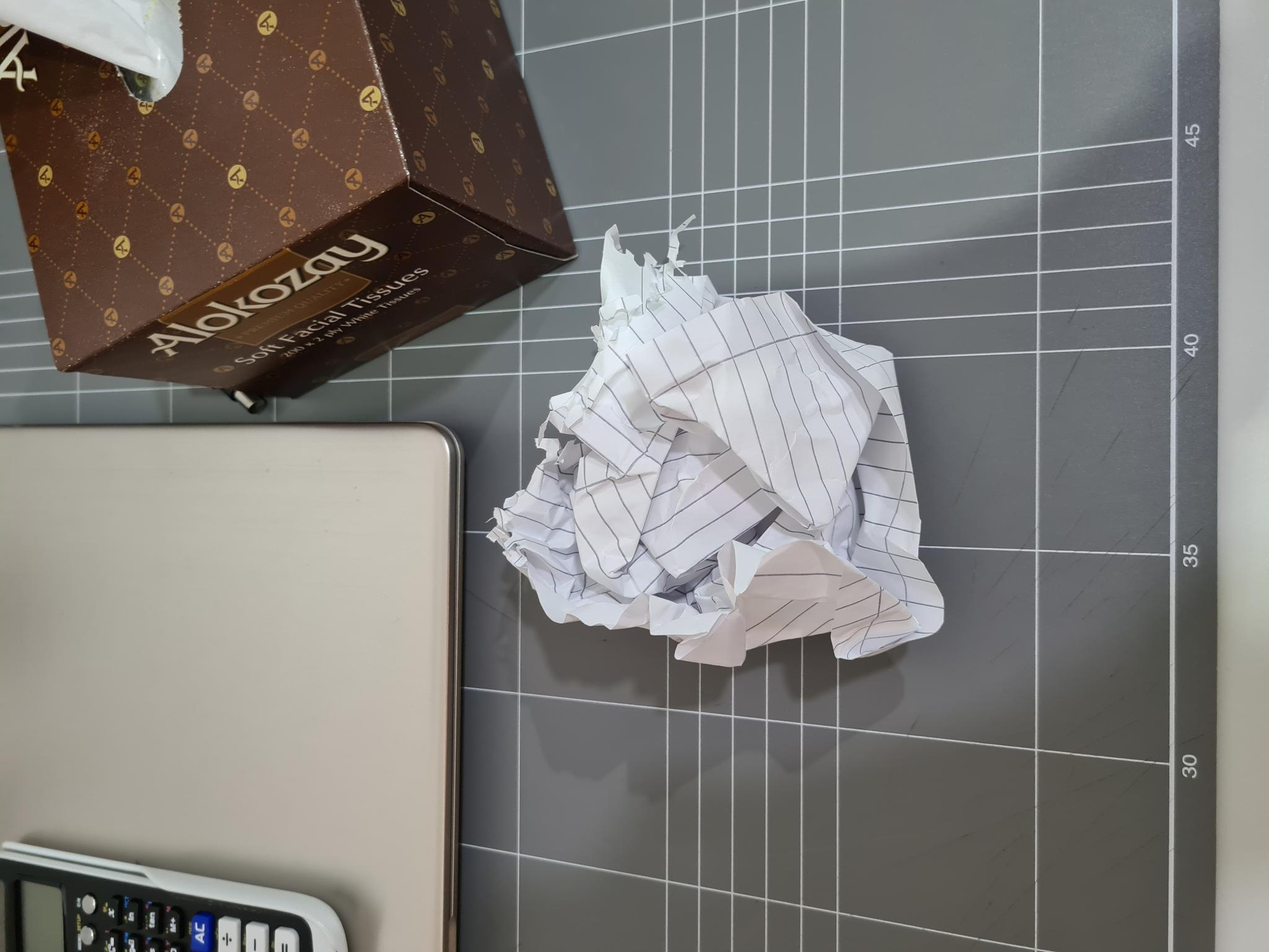Kertas: (276, 495, 714, 945)
